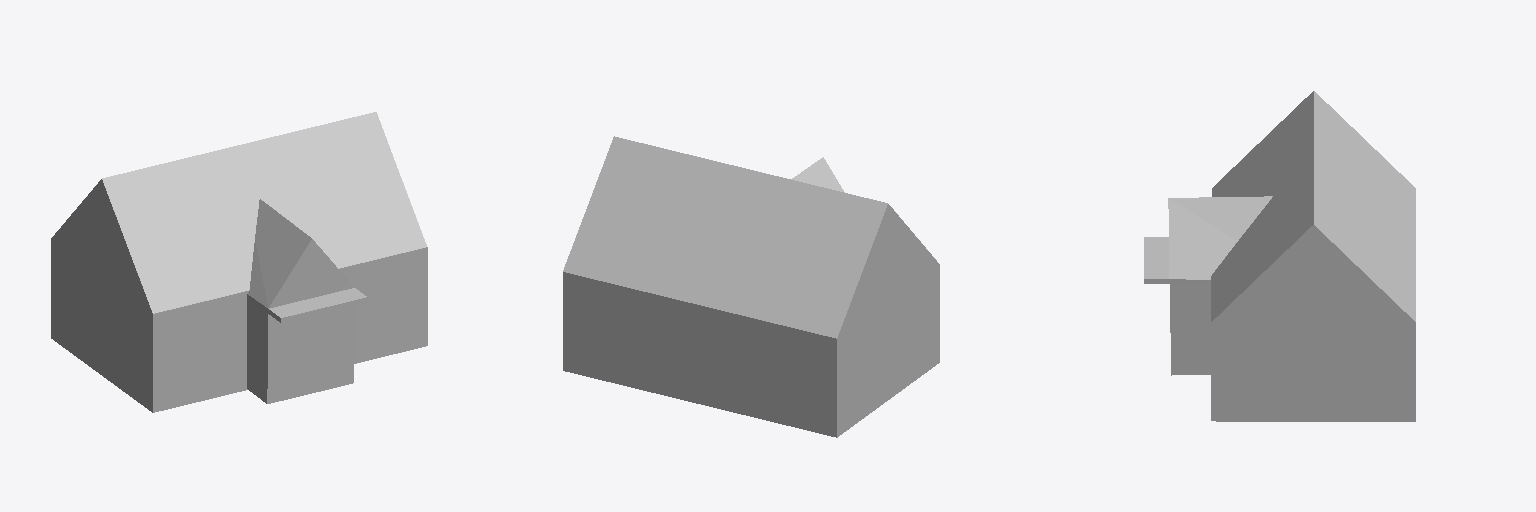
File: HouseColliderMesh.obj
3 views of the same model, side by side, from view 1: azimuth 30°, elevation 25°; view 2: azimuth 150°, elevation 25°; view 3: azimuth 270°, elevation 25° (orthographic).
Visible parts, largest first — view 1: HouseColliderMesh; view 2: HouseColliderMesh; view 3: HouseColliderMesh.
Boxes of the visible parts, x1,y1,x2,y2 form: HouseColliderMesh: [51, 112, 427, 412]; HouseColliderMesh: [563, 136, 939, 437]; HouseColliderMesh: [1144, 91, 1415, 421].
Size of the model in its own units: 2.38 by 1.63 by 2.05.